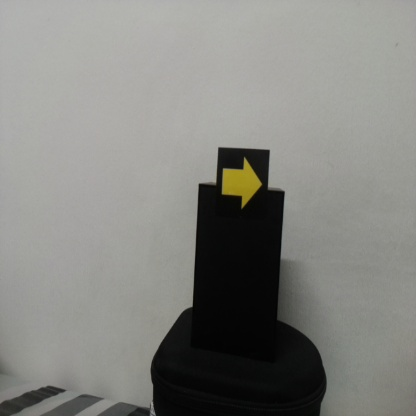id_3: (218, 149, 269, 219)
